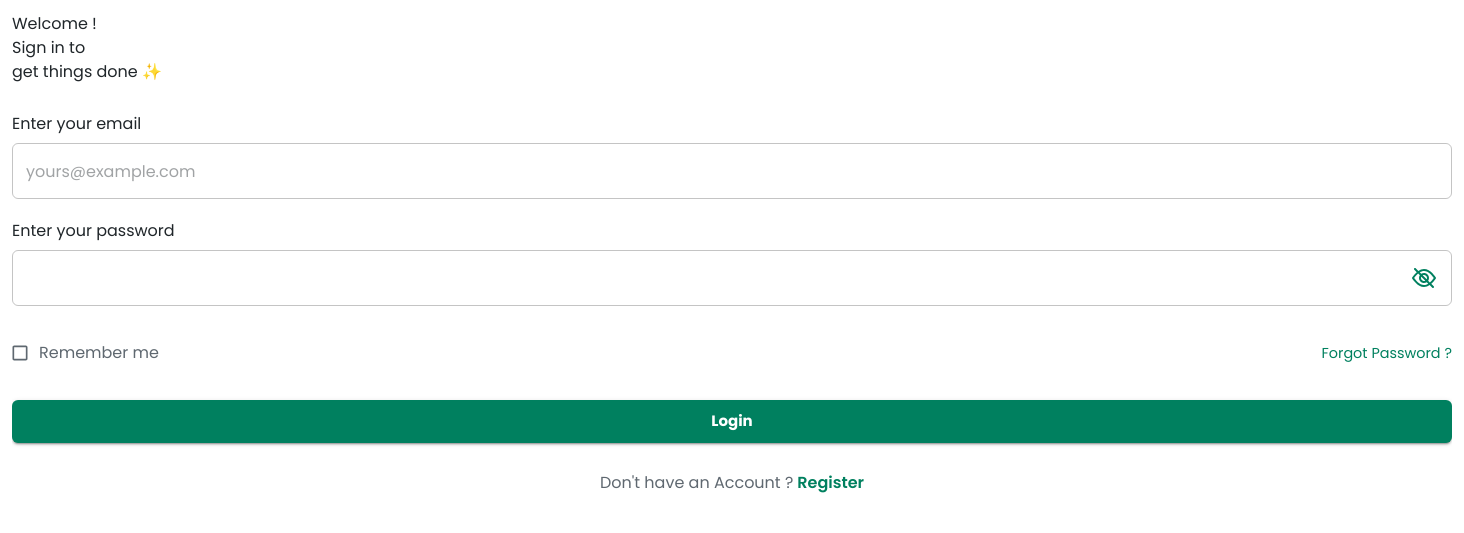
Test case: LoginForm › shows a validation error for invalid email format
Type "not-an-email" into the field labelled "Enter your email" at [732, 171], box 12,143 -> 1452,199
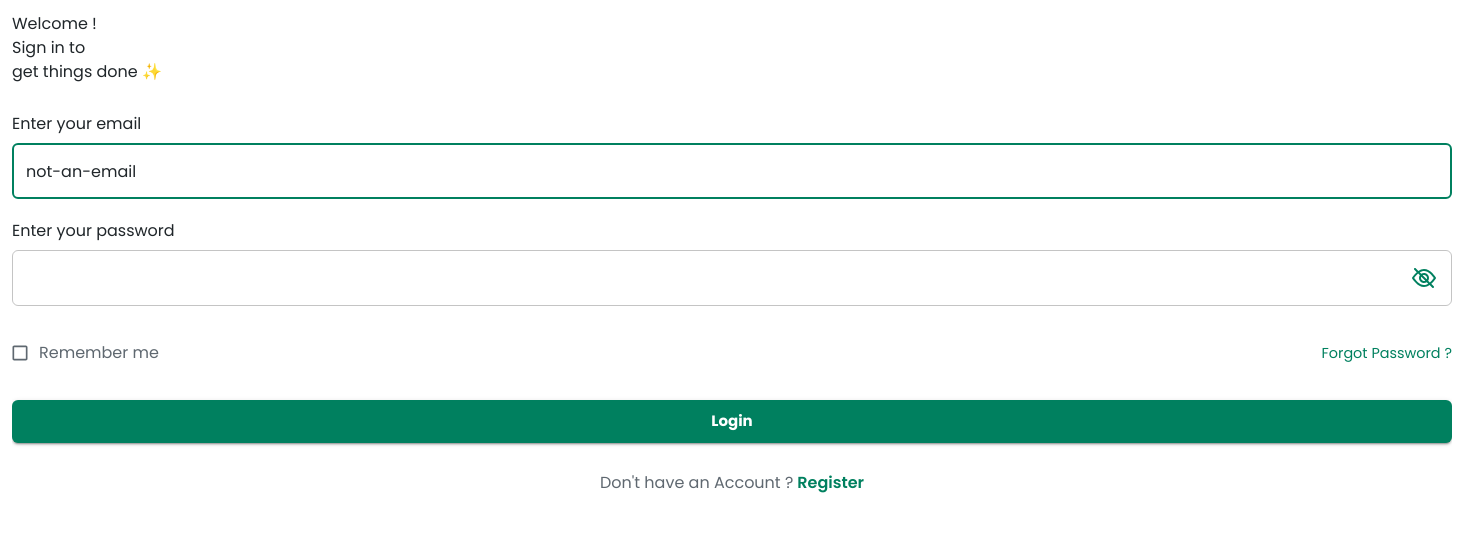
Type "password123" into the password field labelled "Enter your password" at [706, 278], box 12,250 -> 1399,306
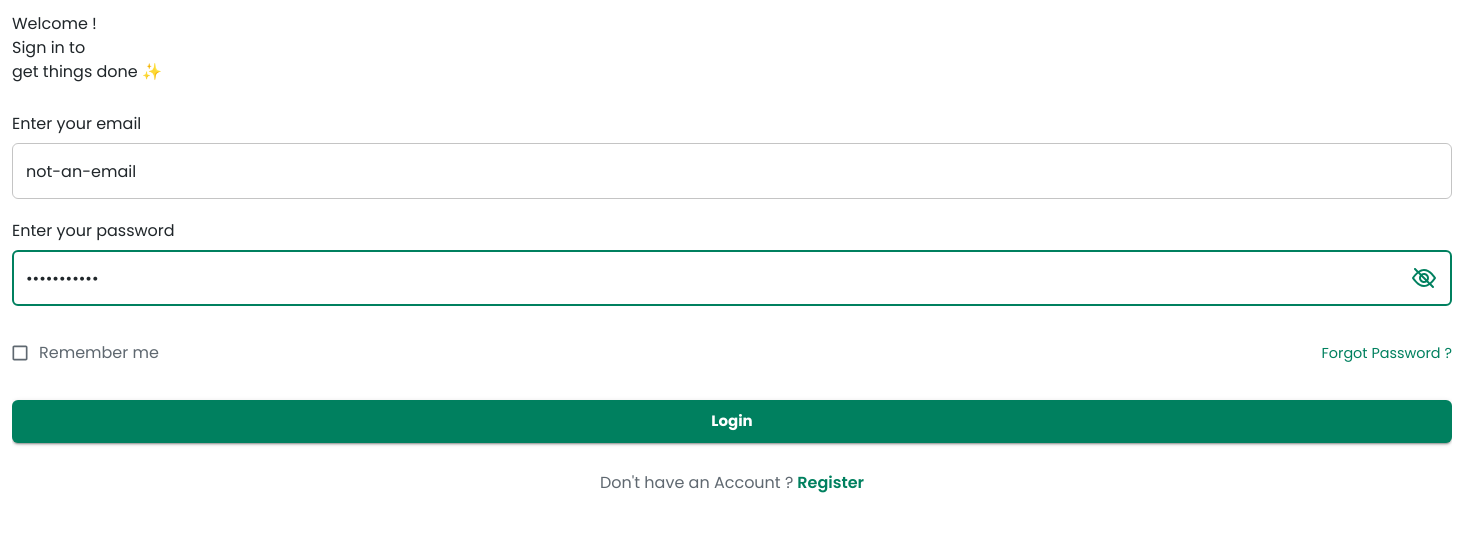
Click the button "Login" at [732, 422], box 12,400 -> 1452,443
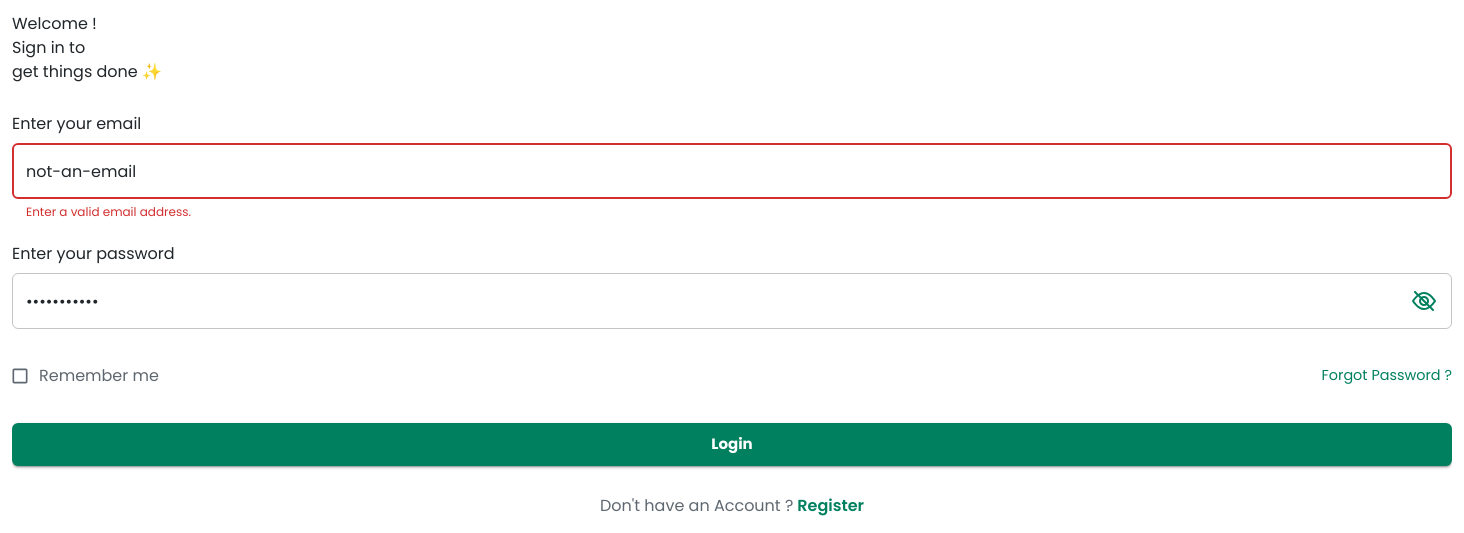
Expected: the text "Enter a valid email address." is shown, 26,203 -> 191,220
